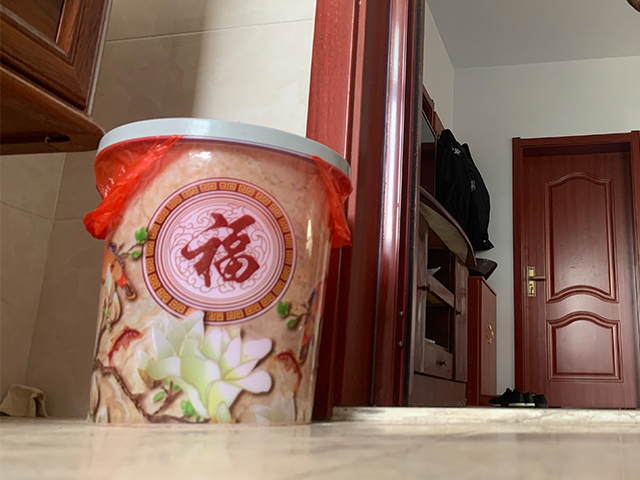cabinet: (409, 184, 478, 406)
trashcan: (83, 118, 354, 428)
